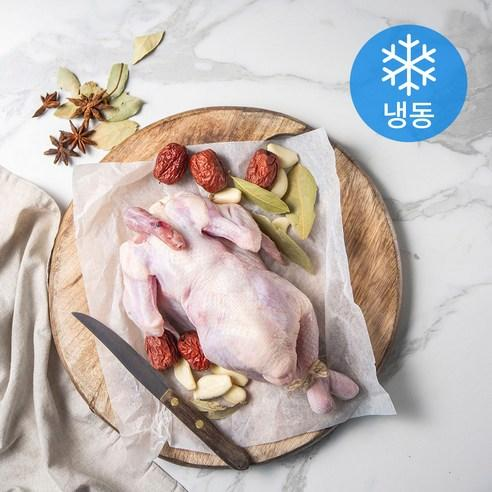chicken: (91, 148, 279, 319)
